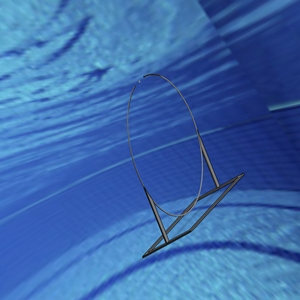circle: (120, 69, 246, 260)
